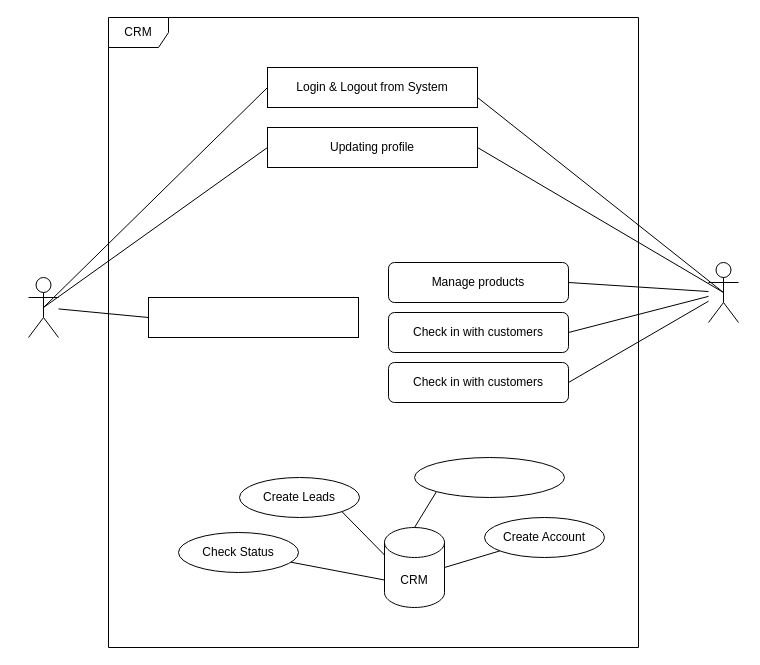
This 760x665 diagram has some shape labels left out. The centre of each missing label's shape, as x and y in pixels:
"Changing Account Information" goes at point (253, 317).
"Create Opportunities" goes at point (489, 477).
"Customer" goes at point (43, 307).
"Internal" goes at point (723, 292).
